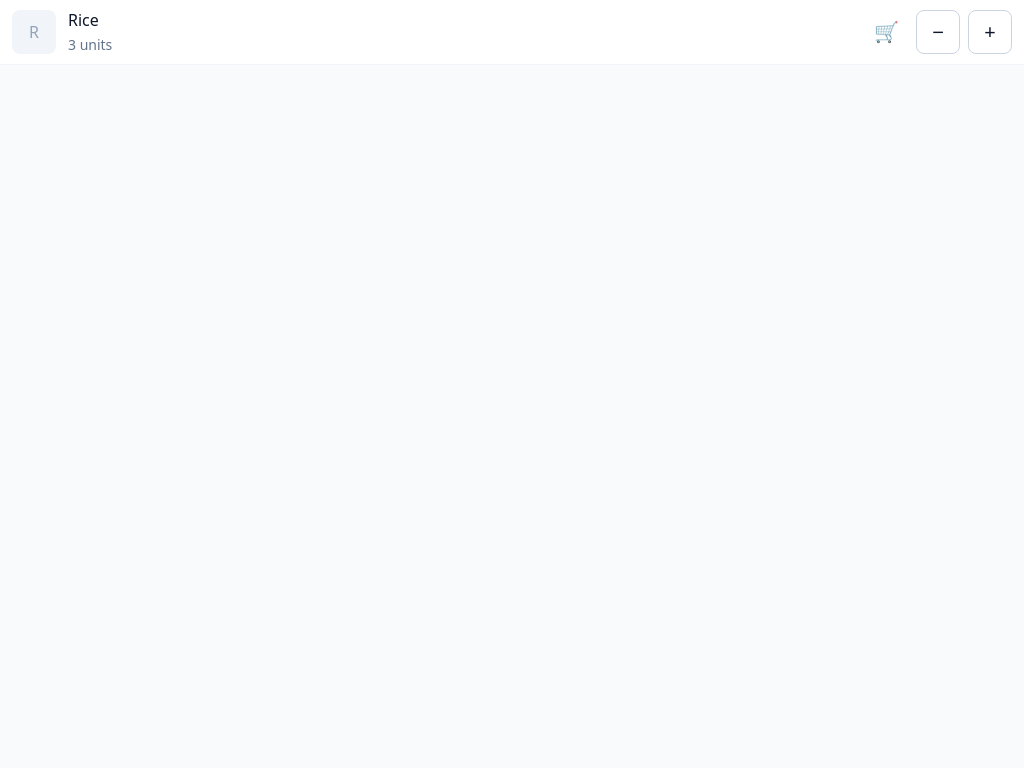
Test: ItemRow undo affordance › offers no Undo button when the mutation returns no eventId
Click the button named "Use 1 unit Rice": (938, 32) [916,10,960,54]
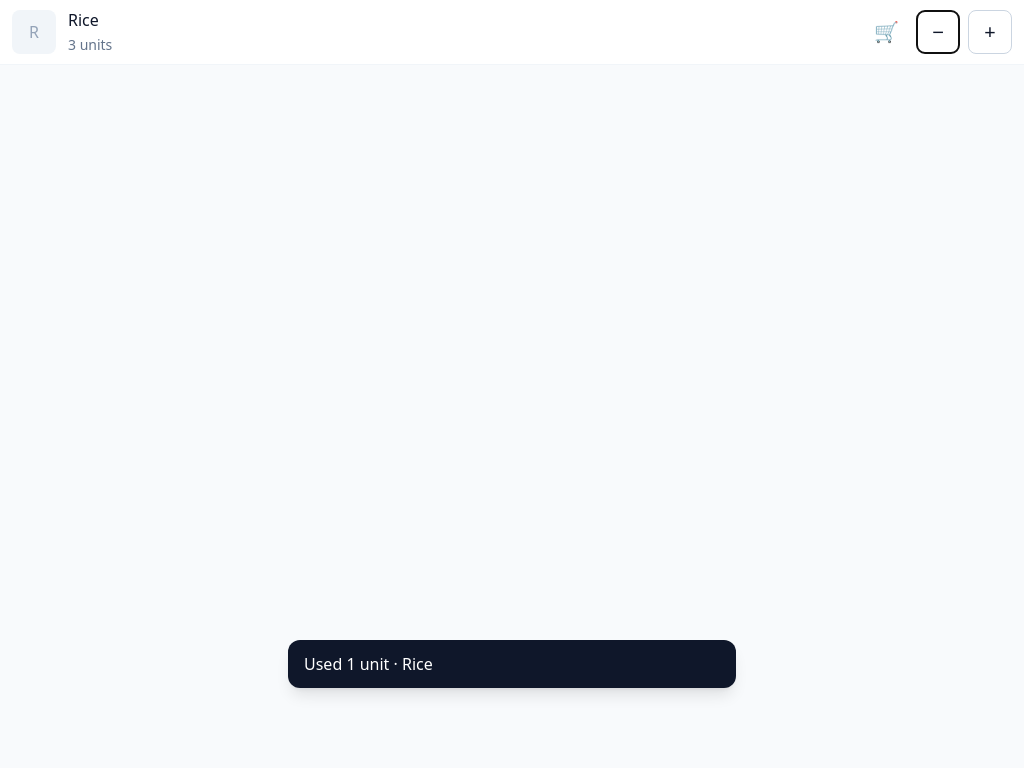
Now the text "Used 1 unit · Rice" is shown, box [304,652,433,676]
